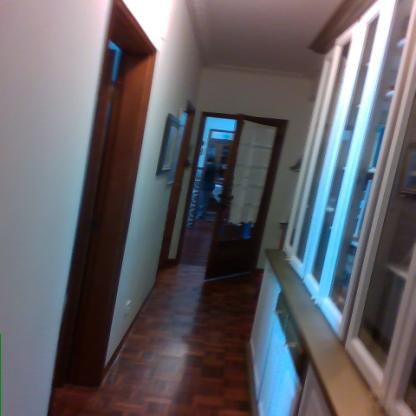semi: (169, 102, 283, 287)
